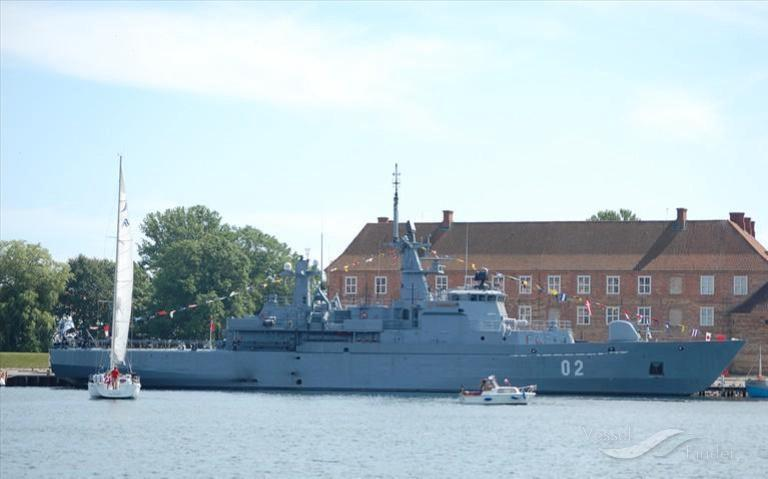OCR: (556, 352, 588, 383)
